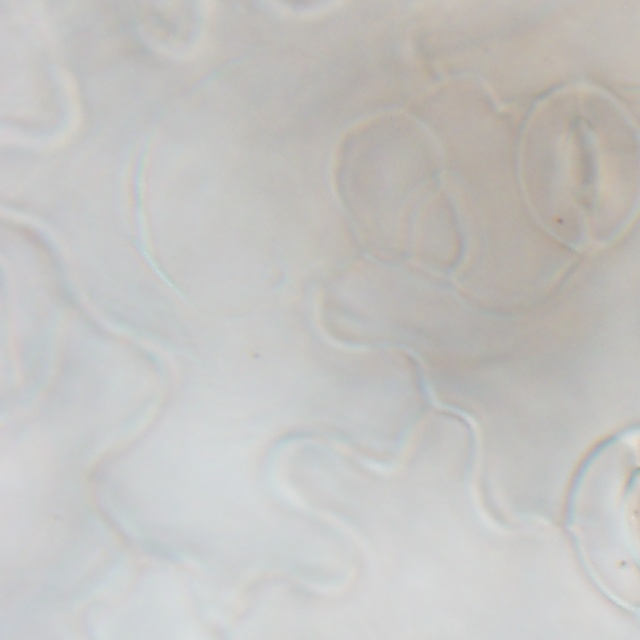center: (561, 119, 599, 209), (561, 514, 640, 525), (0, 313, 78, 323)
stomata-huw1: (516, 84, 639, 251), (568, 425, 639, 614), (1, 217, 65, 419)
